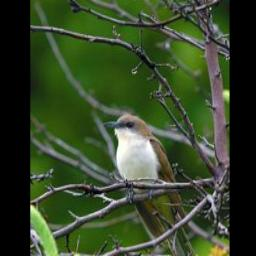Cuckoo: (108, 111, 209, 256)
